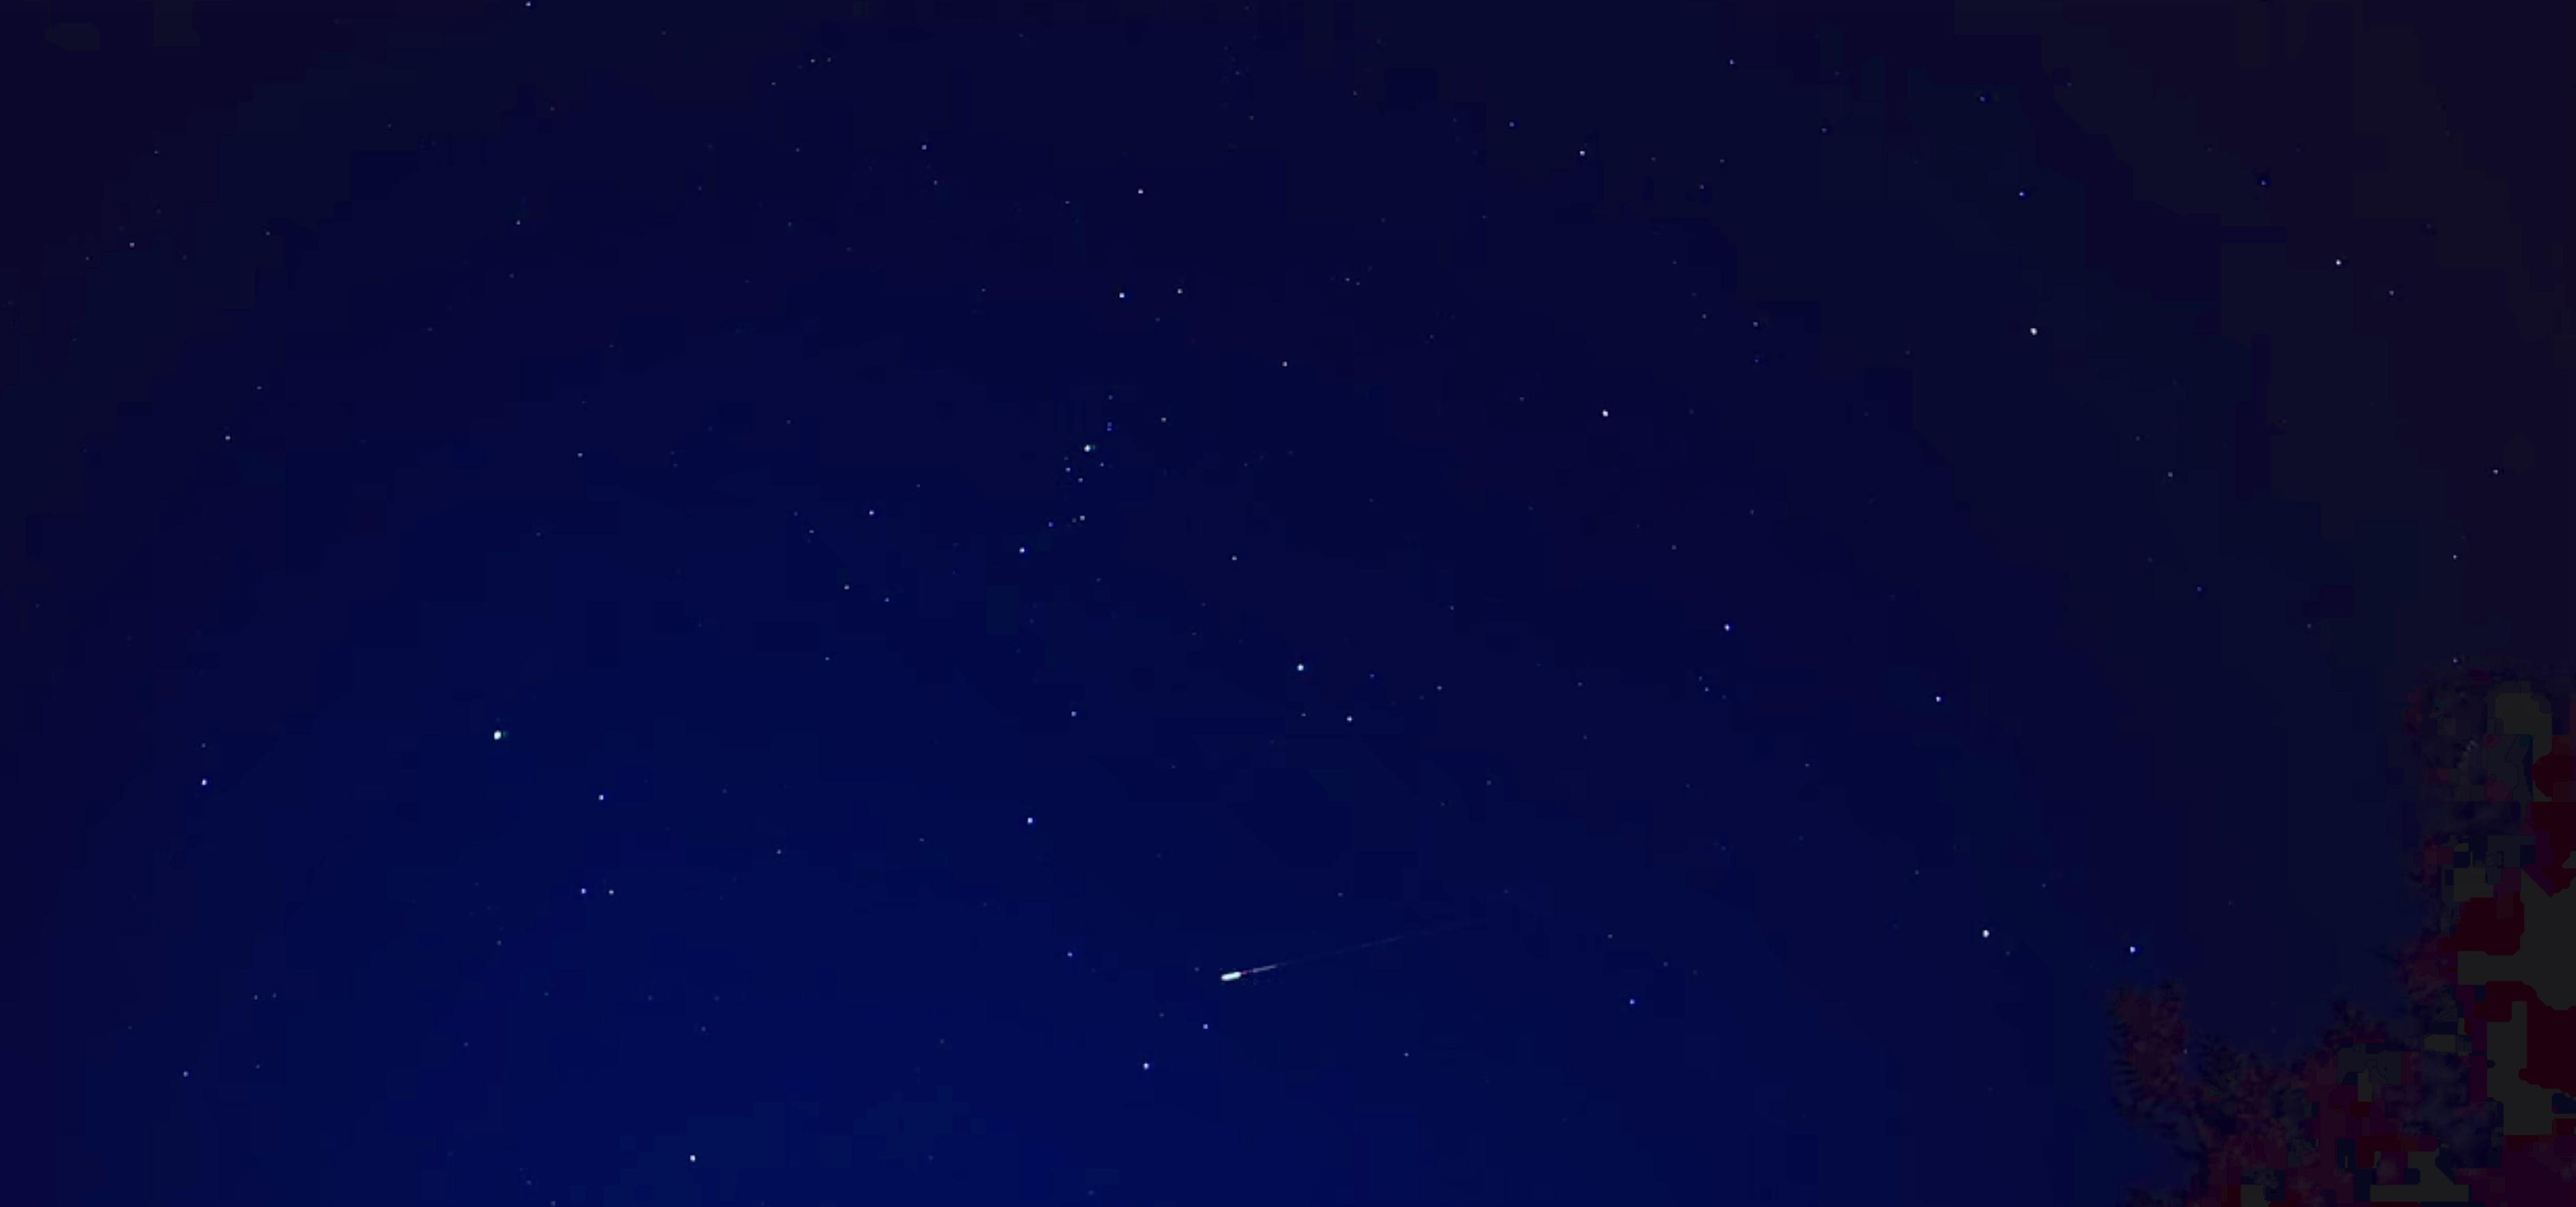meteorite: (1168, 910, 1452, 995)
